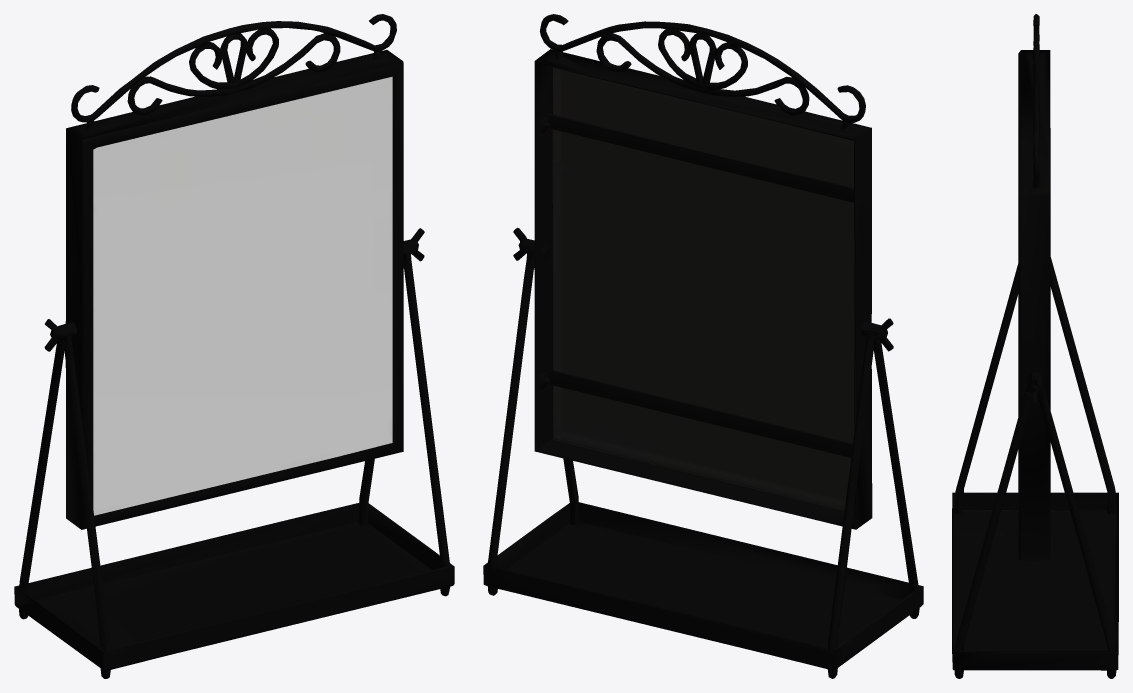
File: 07 - KARMSUND - 桌鏡，黑色，27x43 公分 IKEA 線上購物.glb
3 views of the same model, side by side, from view 1: azimuth 30°, elevation 25°; view 2: azimuth 150°, elevation 25°; view 3: azimuth 270°, elevation 25° (orthographic). The views are drawn at different scales.
Visible parts, largest first — view 1: ProcessedMeshNode; view 2: ProcessedMeshNode; view 3: ProcessedMeshNode.
Boxes of the visible parts, x1=… form: ProcessedMeshNode: x1=14, y1=14, x2=454, y2=678; ProcessedMeshNode: x1=483, y1=14, x2=923, y2=678; ProcessedMeshNode: x1=952, y1=14, x2=1118, y2=678.
Bounding box in the file's own units: 0.2951 × 0.431 × 0.1204.
2 materials, 2 textured.
